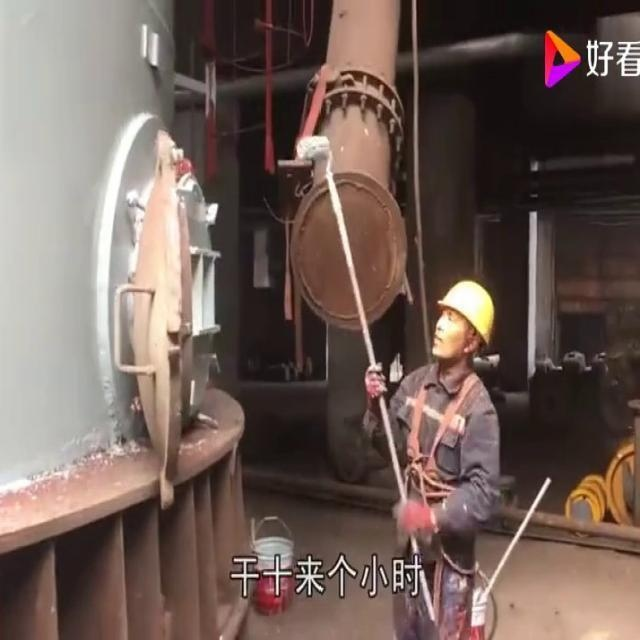Arnes_seguridad: (400, 357, 488, 503)
